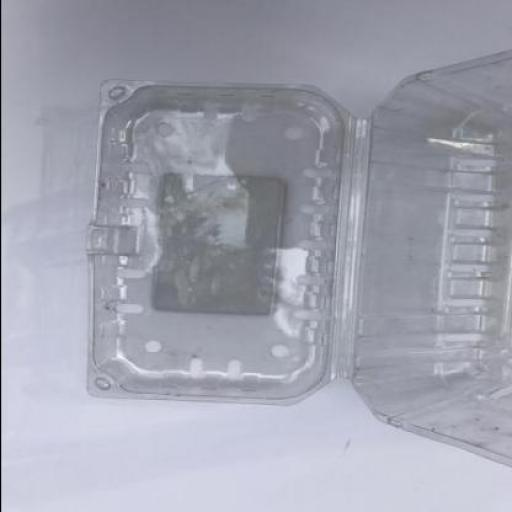plastic: (82, 50, 511, 469), (79, 82, 354, 403), (343, 50, 511, 471)
